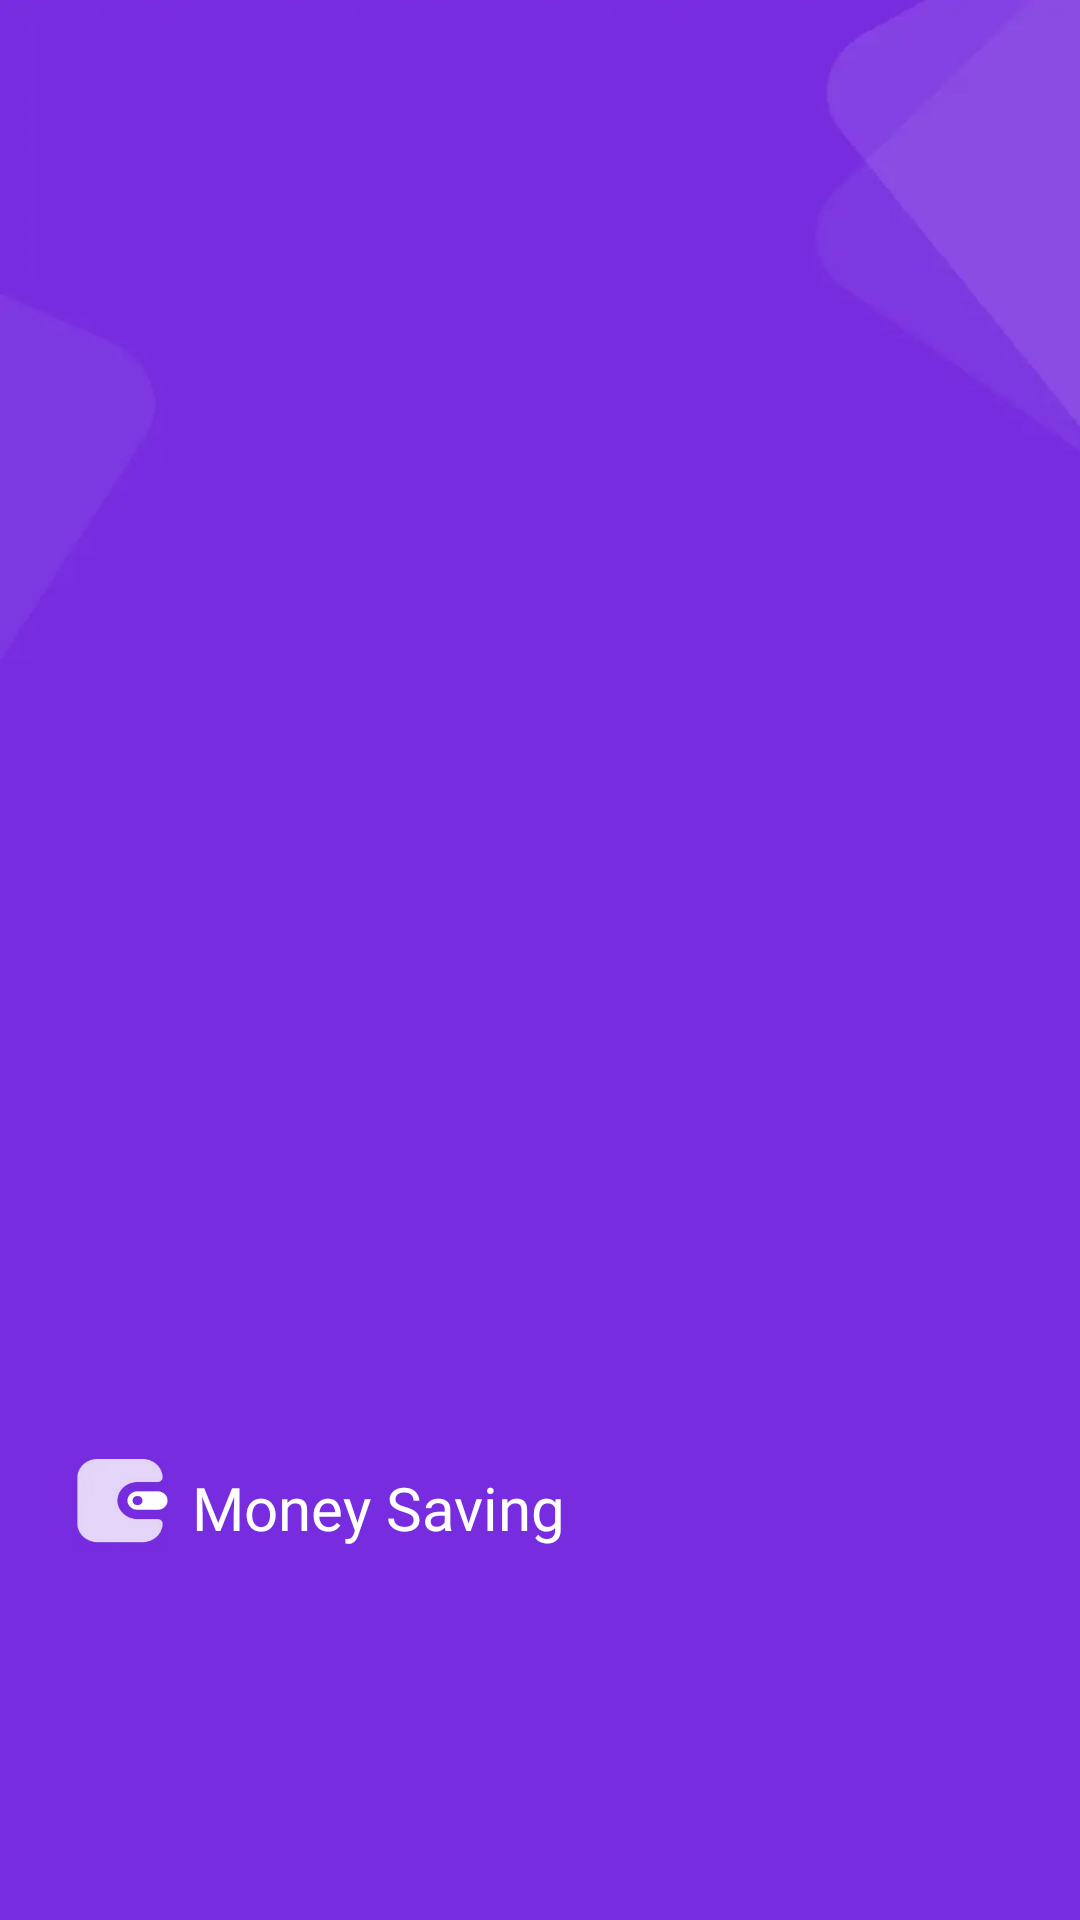

Named icons in this screenshot (1080 x 1920) and their centers, [x,y]:
money wallet: [122,1501]
